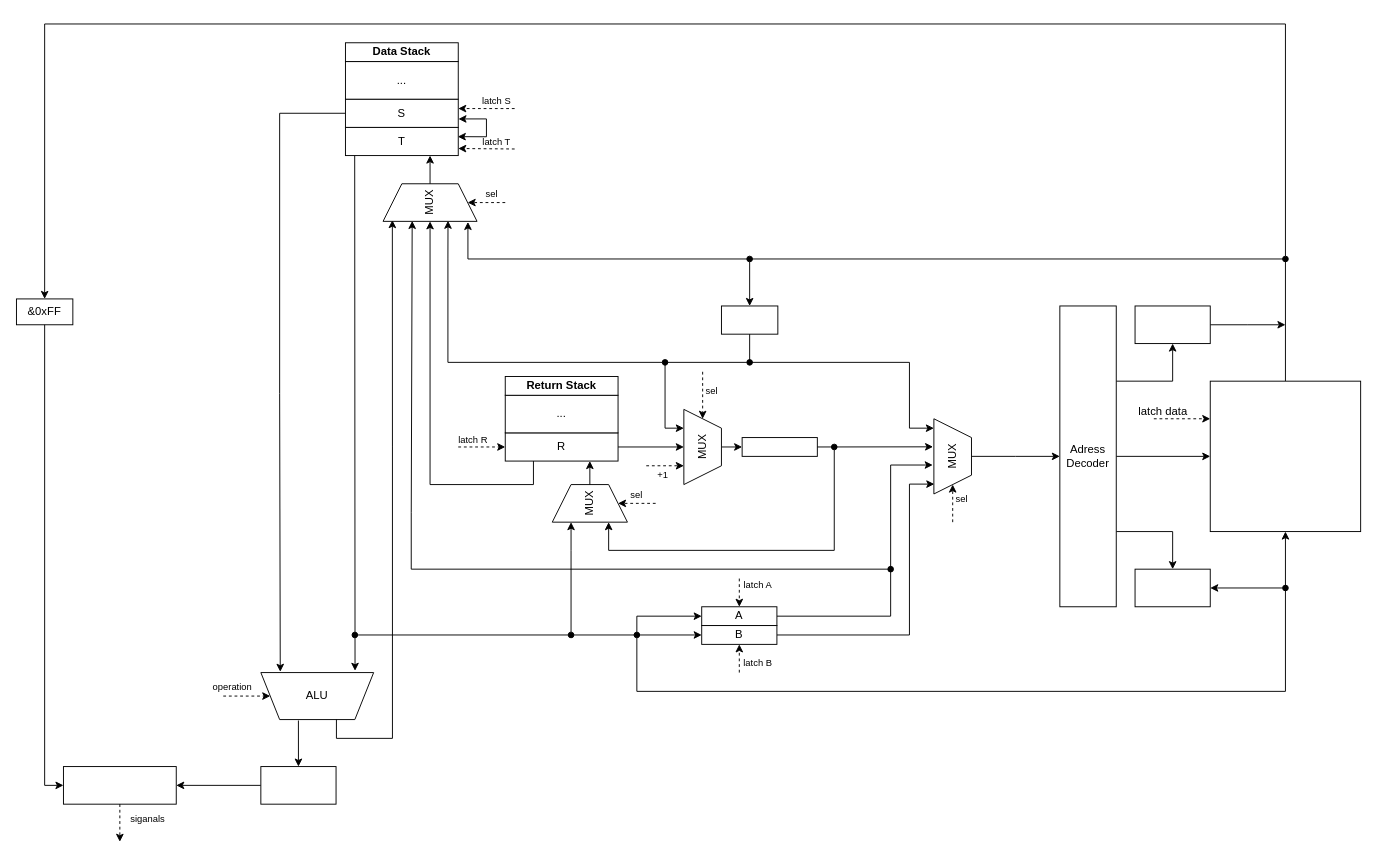
The diagram is 1377 pixels wide and 866 high, and some of its shapes have lost their labels. The shapes that lost their labels are listed below. From the top down, each one's centre as x and y in pixels, then its label:
At [749,319]: "&(^0xFF)".
At [1172,324]: "IN (0x80)".
At [779,446]: "PC".
At [1285,456]: "Memory".
At [1172,587]: "OUT (0x84)".
At [119,785]: "CU".
At [298,785]: "Status Register".
